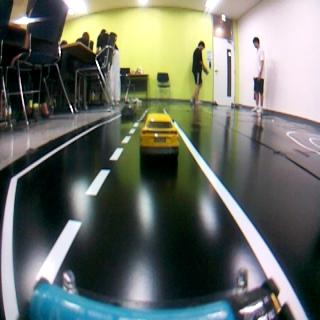car: (144, 112, 176, 158), (122, 107, 136, 118)
